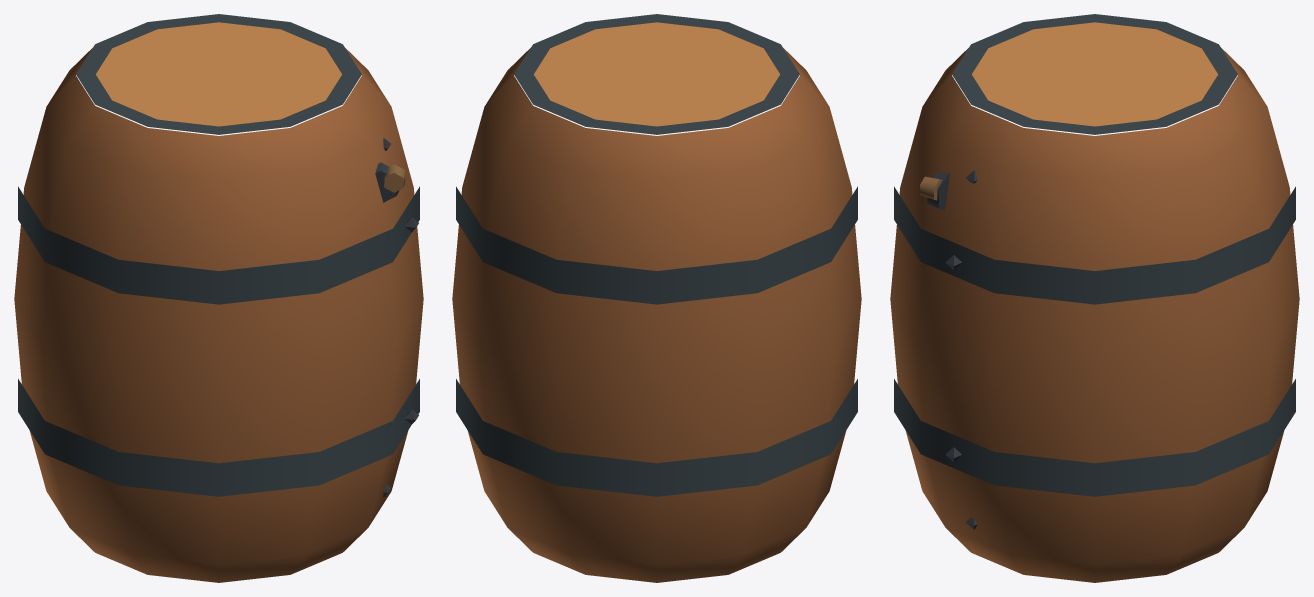
File: dockside-barrel.glb
3 renders of one model, left to right at view 1: azimuth 30°, elevation 25°; view 2: azimuth 150°, elevation 25°; view 3: azimuth 270°, elevation 25°, orthographic.
Visible parts, largest first — view 1: Merged_barrel-stave, Merged_prop-accent, Merged_barrel-head, Merged_city-metal-dark; view 2: Merged_barrel-stave, Merged_prop-accent, Merged_barrel-head; view 3: Merged_barrel-stave, Merged_prop-accent, Merged_barrel-head, Merged_city-metal-dark.
Boxes of the visible parts, left/top/right/bottom form: Merged_barrel-stave: left=14, top=48, right=423, bottom=582; Merged_prop-accent: left=18, top=14, right=419, bottom=496; Merged_barrel-head: left=96, top=22, right=341, bottom=134; Merged_city-metal-dark: left=375, top=138, right=418, bottom=497; Merged_barrel-stave: left=452, top=48, right=861, bottom=582; Merged_prop-accent: left=456, top=14, right=857, bottom=496; Merged_barrel-head: left=534, top=22, right=779, bottom=134; Merged_barrel-stave: left=890, top=48, right=1299, bottom=582; Merged_prop-accent: left=894, top=14, right=1295, bottom=496; Merged_barrel-head: left=972, top=22, right=1217, bottom=134; Merged_city-metal-dark: left=927, top=170, right=977, bottom=529.
Size of what is drawn, in the model's own units: 1.66 by 2.01 by 1.66.
